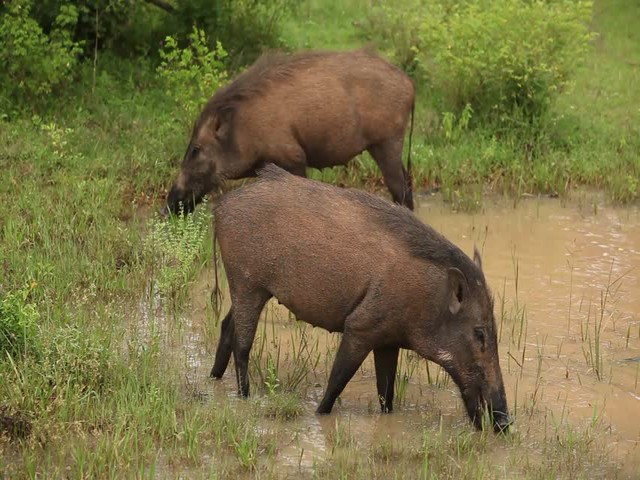Pig: (216, 183, 518, 429), (164, 45, 442, 175)
